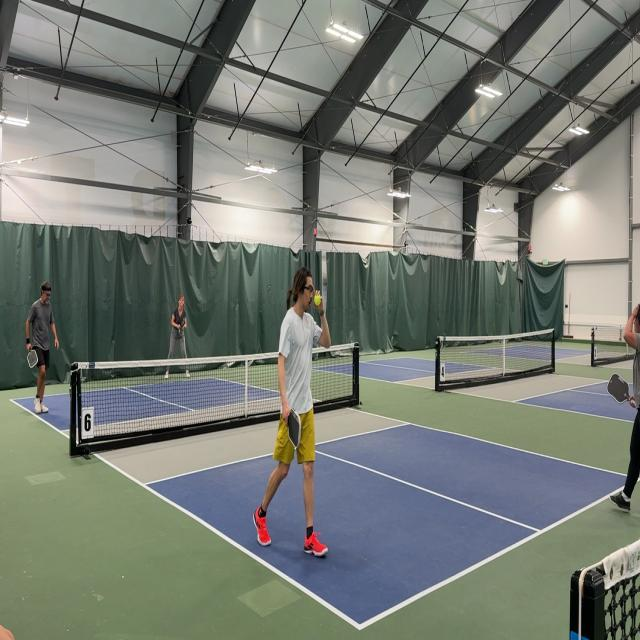ball: (314, 291, 322, 308)
